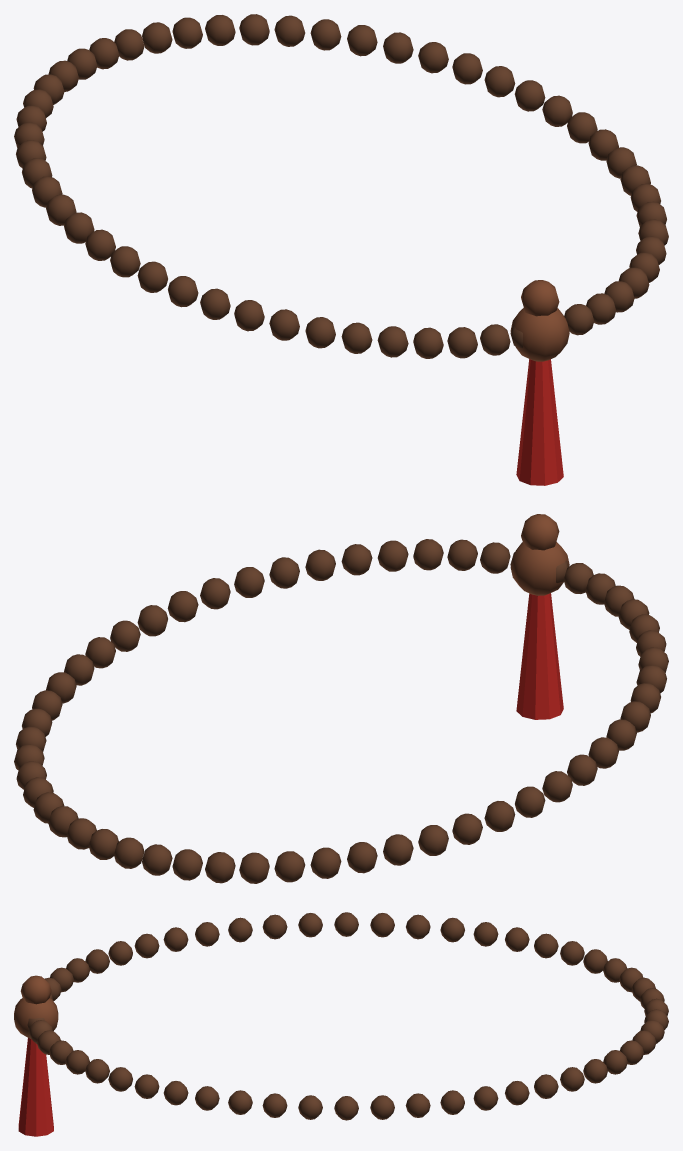
File: trang_hat_bo_de.obj
3 renders of one model, top to bottom at view 1: azimuth 30°, elevation 25°; view 2: azimuth 150°, elevation 25°; view 3: azimuth 270°, elevation 25°, orthographic. The views are drawn at different scales.
Bounding box in the file's own units: 0.296 × 0.108 × 0.422.
